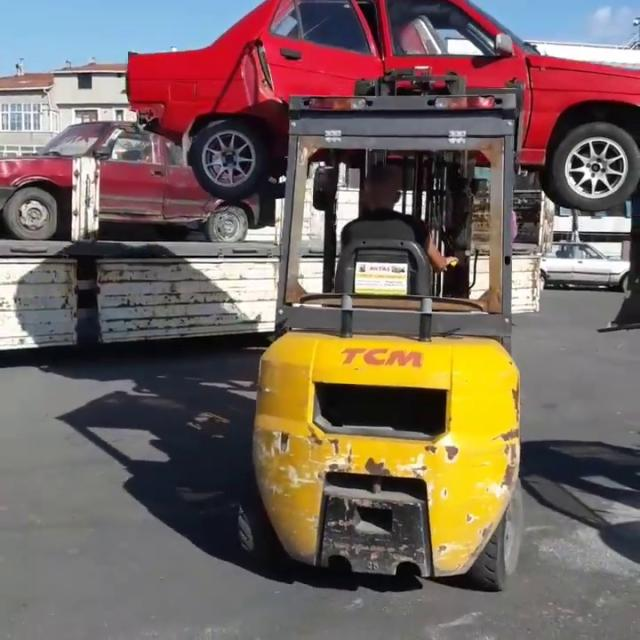ForkLift: (257, 100, 524, 594)
